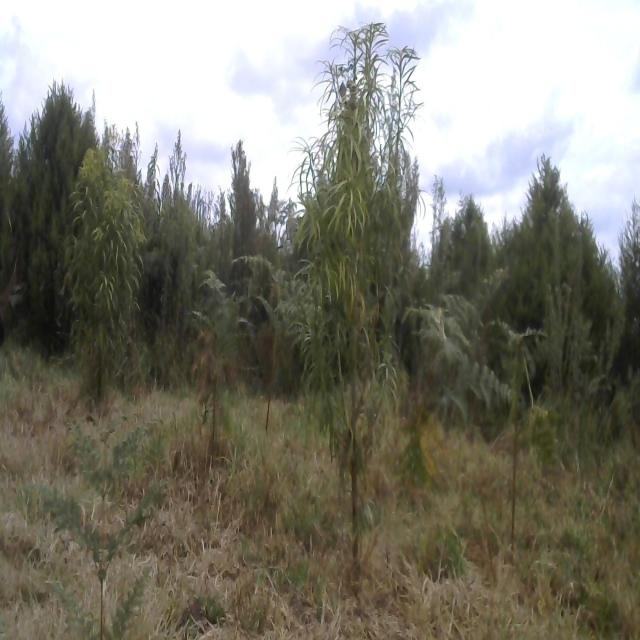Juniperus procesera: (521, 125, 614, 324)
Podocarpus falcatus: (294, 17, 422, 554), (16, 78, 104, 330), (73, 139, 148, 395)
